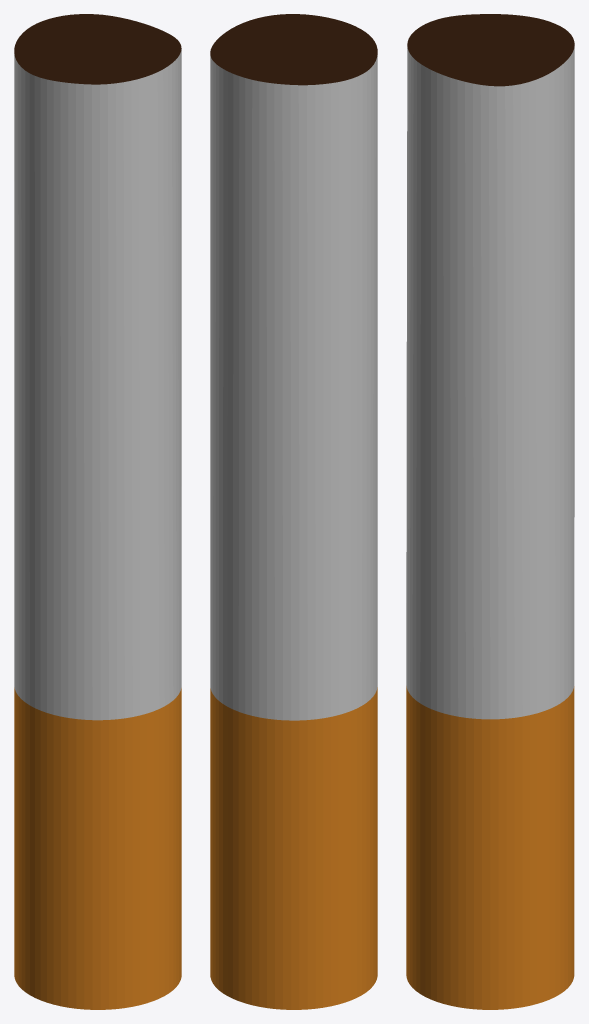
File: cigarette2.glb
3 views of the same model, side by side, from view 1: azimuth 30°, elevation 25°; view 2: azimuth 150°, elevation 25°; view 3: azimuth 270°, elevation 25° (orthographic).
Visible parts, largest first — view 1: Cylinder; view 2: Cylinder; view 3: Cylinder.
Part boxes in pixels (left/top/right/bottom): Cylinder: left=14, top=14, right=181, bottom=1009; Cylinder: left=210, top=14, right=377, bottom=1009; Cylinder: left=406, top=14, right=574, bottom=1009.
Bounding box in the file's own units: 0.3282 × 1.99 × 0.3263.
